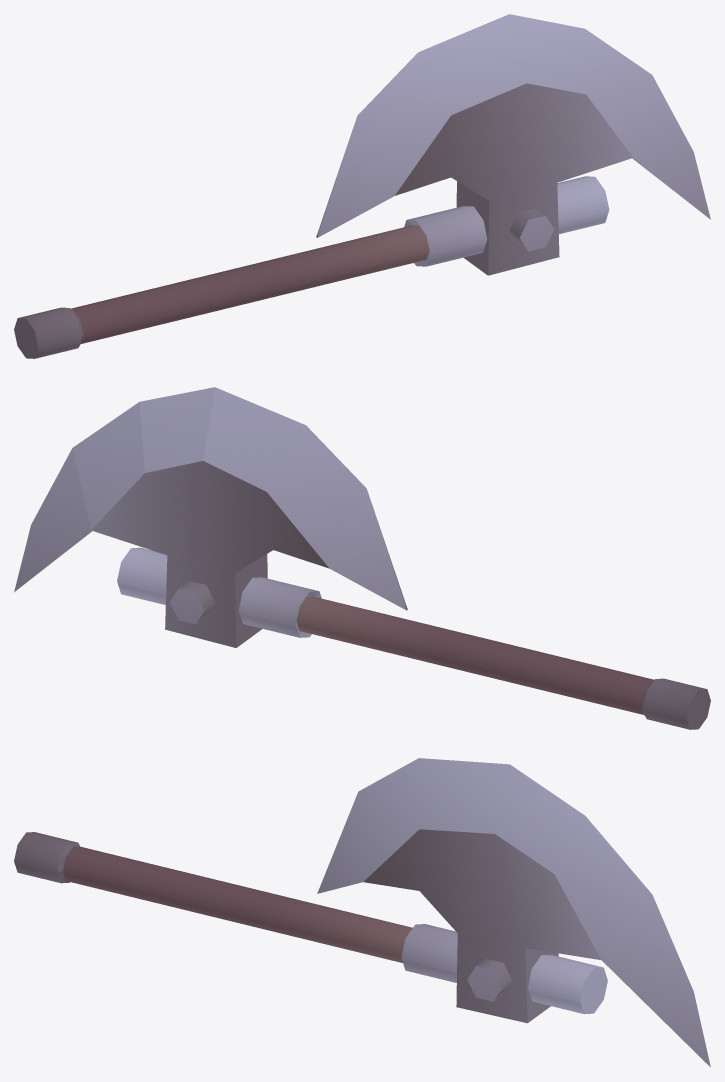
The model's file is axe.glb.
3 views of the same model, one above another, from view 1: azimuth 30°, elevation 25°; view 2: azimuth 150°, elevation 25°; view 3: azimuth 330°, elevation 25° (orthographic).
Parts seen in each view (by area): view 1: Axe_Material #149_0; view 2: Axe_Material #149_0; view 3: Axe_Material #149_0.
Part boxes in pixels (<box>): Axe_Material #149_0: <box>14,14,710,358</box>; Axe_Material #149_0: <box>14,387,710,729</box>; Axe_Material #149_0: <box>14,758,710,1067</box>.
Bounding box in the file's own units: 41.38 × 14.71 × 5.58.
Materials: 1 (1 with a texture image).
